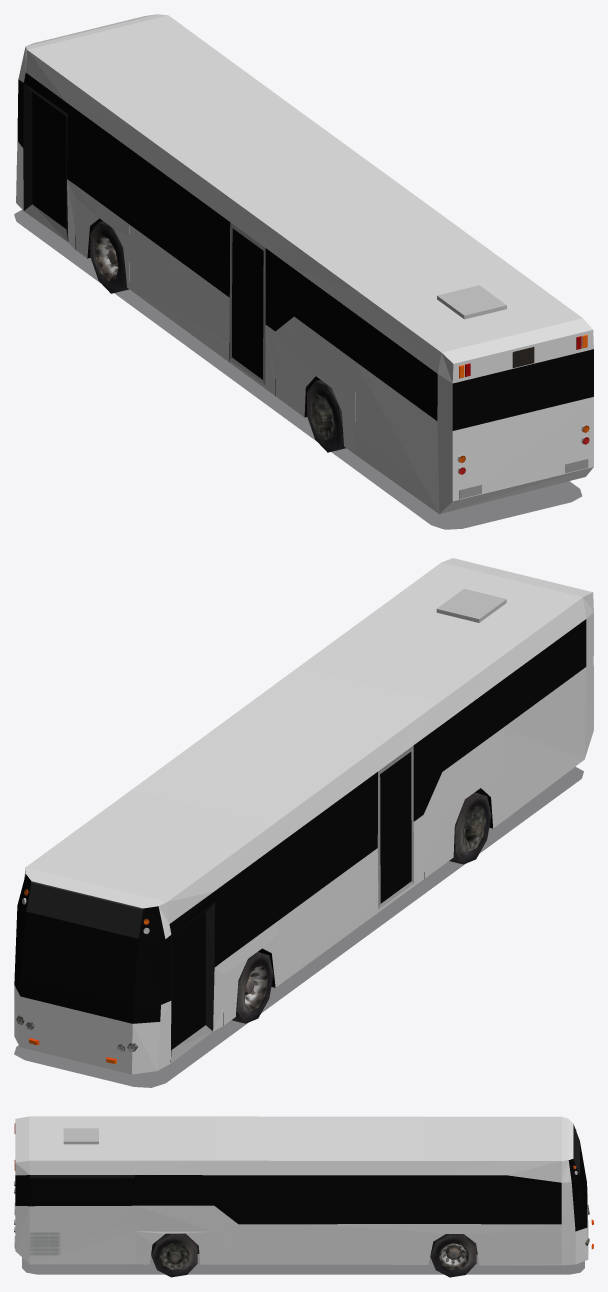
File: Bus.glb
3 renders of one model, top to bottom at view 1: azimuth 30°, elevation 25°; view 2: azimuth 150°, elevation 25°; view 3: azimuth 270°, elevation 25°, orthographic. The views are drawn at different scales.
Visible parts, largest first — view 1: Body, Shadow, WheelFL; view 2: Body, Shadow, WheelFL; view 3: Body, Shadow, WheelFR.
Part boxes in pixels (bbox=[...]): Body: bbox=[16, 14, 593, 514]; Shadow: bbox=[14, 210, 581, 529]; WheelFL: bbox=[90, 221, 128, 293]; Body: bbox=[14, 558, 593, 1074]; Shadow: bbox=[14, 766, 583, 1087]; WheelFL: bbox=[231, 952, 273, 1023]; Body: bbox=[14, 1116, 593, 1277]; Shadow: bbox=[22, 1254, 584, 1274]; WheelFR: bbox=[430, 1234, 476, 1277].
Bounding box in the file's own units: 2.67 × 2.94 × 12.97.
Materials: 2 (1 with a texture image).
